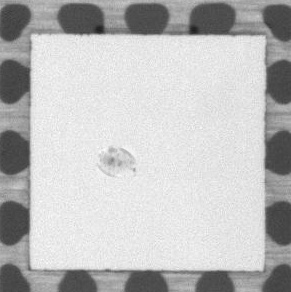DIE_INK: (93, 143, 139, 182)
